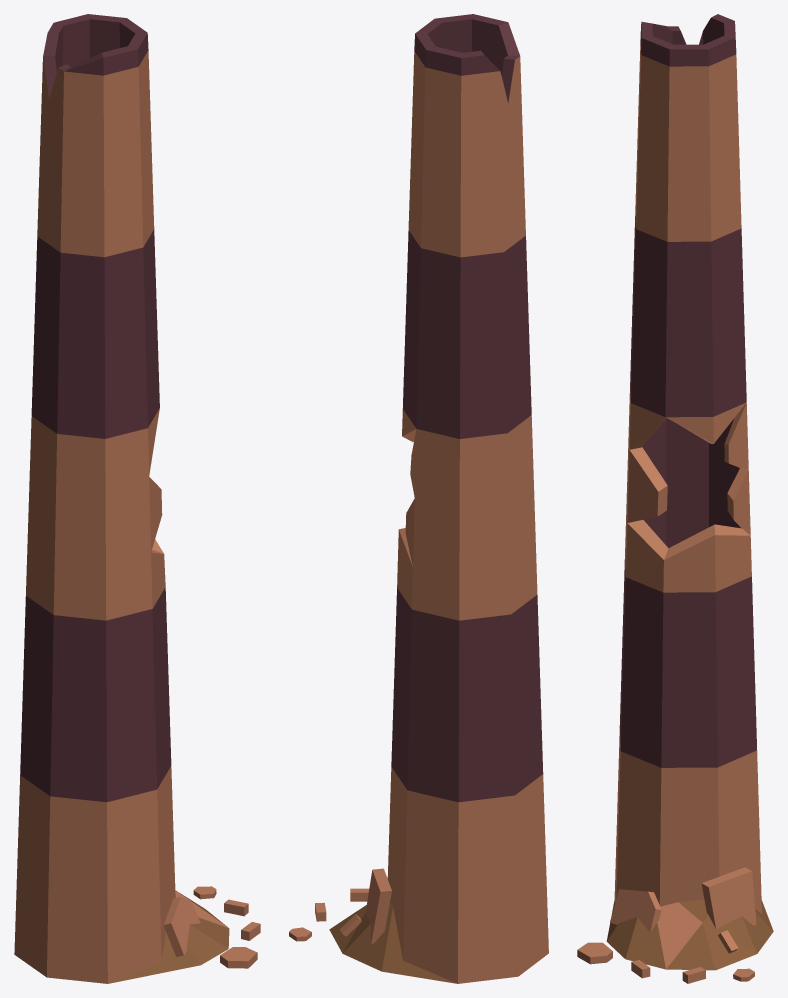
Rendered from chimney-big-demaged.fbx.
3 renders of one model, left to right at view 1: azimuth 30°, elevation 25°; view 2: azimuth 150°, elevation 25°; view 3: azimuth 270°, elevation 25°, orthographic. The views are drawn at different scales.
Visible parts, largest first — view 1: chimney-big-demaged; view 2: chimney-big-demaged; view 3: chimney-big-demaged.
Part boxes in pixels (x1,y1,x2,y2): chimney-big-demaged: (14,14,260,983); chimney-big-demaged: (289,14,548,983); chimney-big-demaged: (577,14,773,983).
Bounding box in the file's own units: 4.61 × 18.39 × 3.71.
